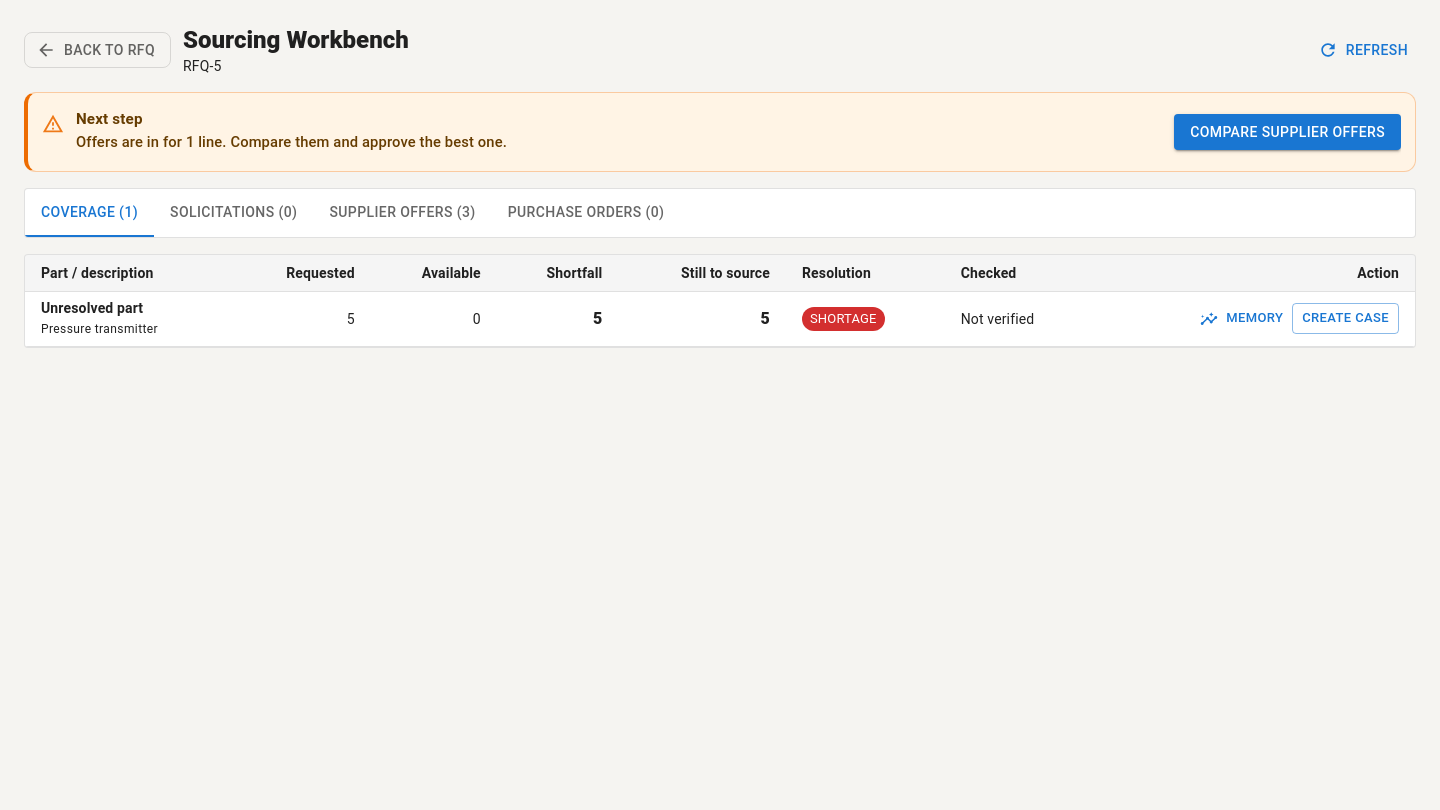
Test: the warranty column › shows the captured period in months and keeps the supplier wording beside it
Click the tab "Supplier offers (3)": (402, 213) [313, 189, 492, 237]
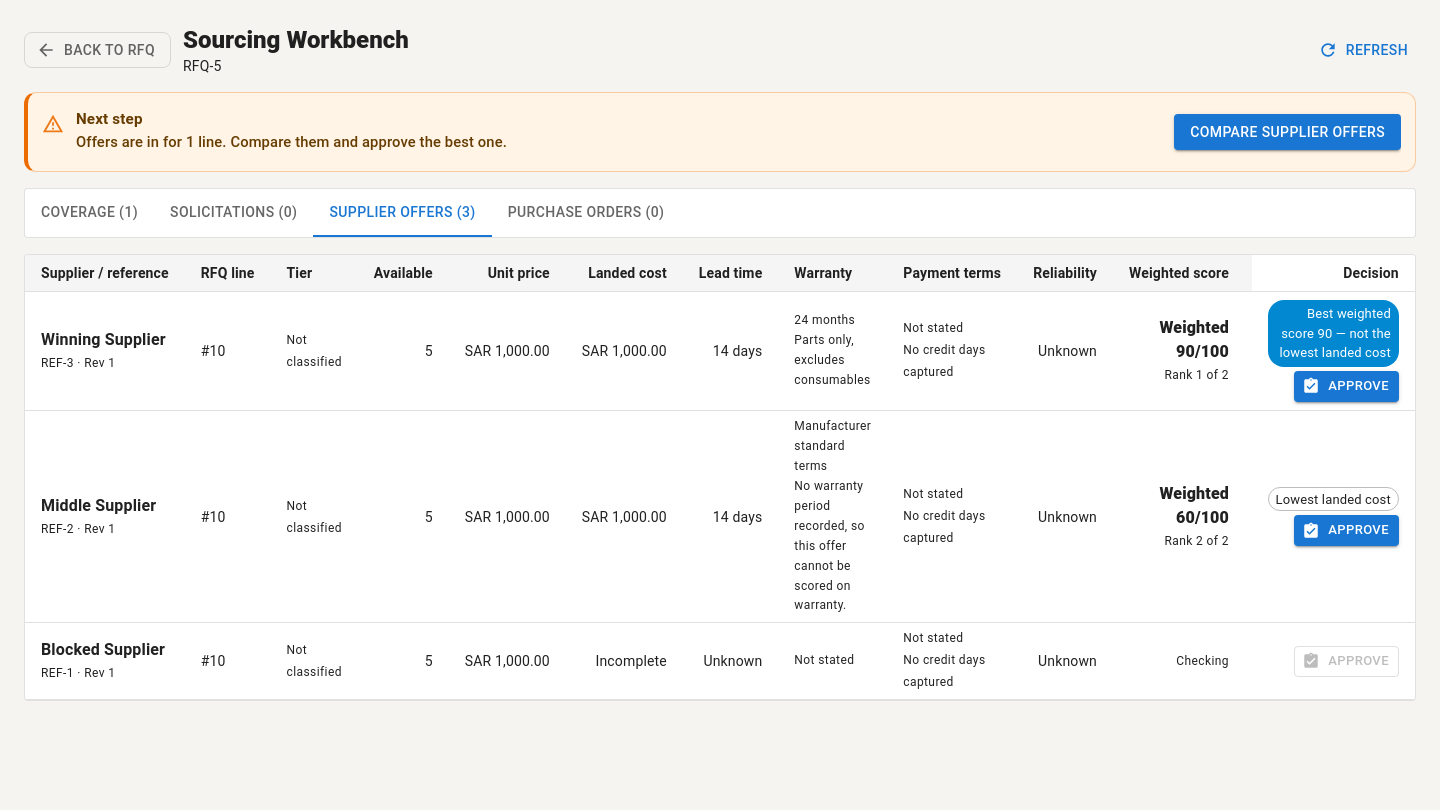
Now the cell "24 months Parts only, excludes consumables" is shown, box [778, 291, 887, 411]
